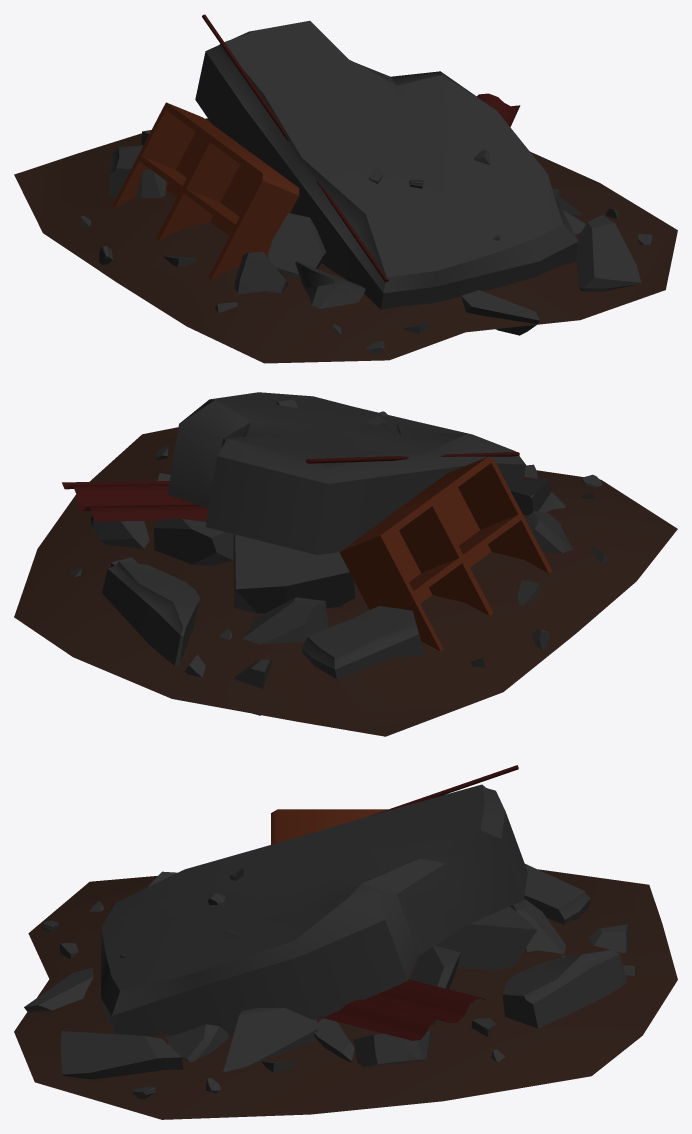
The model's file is debris12TEST.FBX.
3 views of the same model, one above another, from view 1: azimuth 30°, elevation 25°; view 2: azimuth 150°, elevation 25°; view 3: azimuth 270°, elevation 25° (orthographic). The views are drawn at different scales.
Parts seen in each view (by area): view 1: Box001; view 2: Box001; view 3: Box001.
Boxes of the visible parts, x1=… form: Box001: x1=14, y1=14, x2=677, y2=363; Box001: x1=14, y1=392, x2=677, y2=736; Box001: x1=14, y1=765, x2=677, y2=1119.
Bounding box in the file's own units: 88.76 × 34.05 × 97.47.
